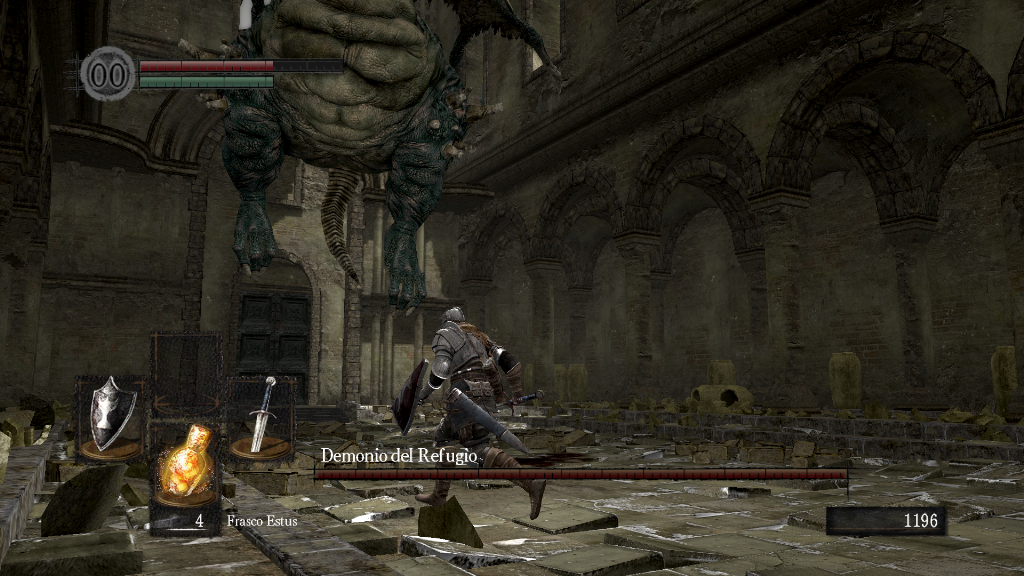asylumDemon: (176, 1, 554, 312)
bossHP: (314, 469, 847, 479)
health: (138, 58, 343, 71)
humanity: (80, 45, 136, 102)
player: (388, 306, 549, 522)
souls: (825, 506, 945, 536)
stamina: (138, 74, 274, 88)
